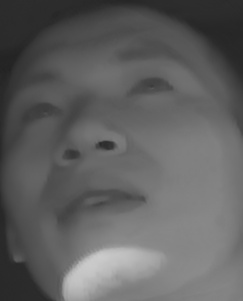eye: (125, 70, 182, 108), (14, 98, 66, 129)
mouth: (54, 174, 149, 232)
